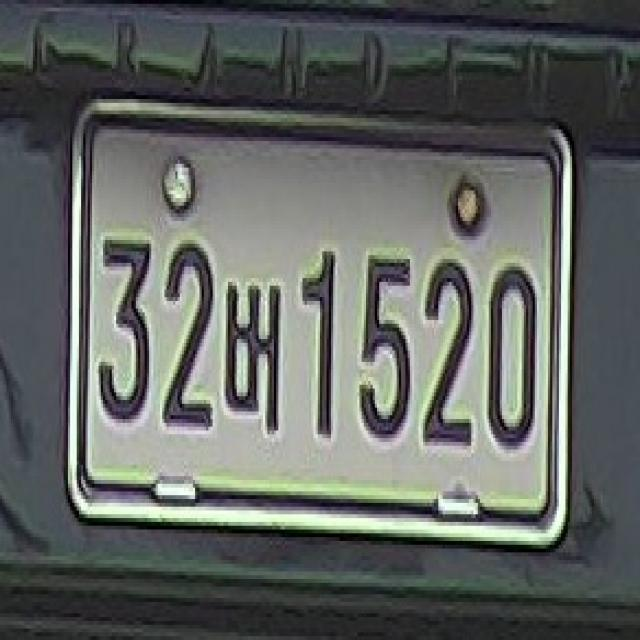0: (487, 259, 537, 453)
1: (298, 244, 344, 446)
2: (418, 255, 476, 450), (162, 232, 215, 438)
3: (94, 228, 154, 423)
5: (360, 248, 414, 442)
beo: (222, 282, 280, 434)
license_plate: (81, 118, 557, 526)
